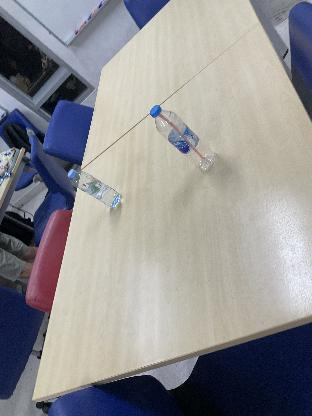Plastic Bottle: (150, 104, 216, 172), (66, 168, 122, 209)
